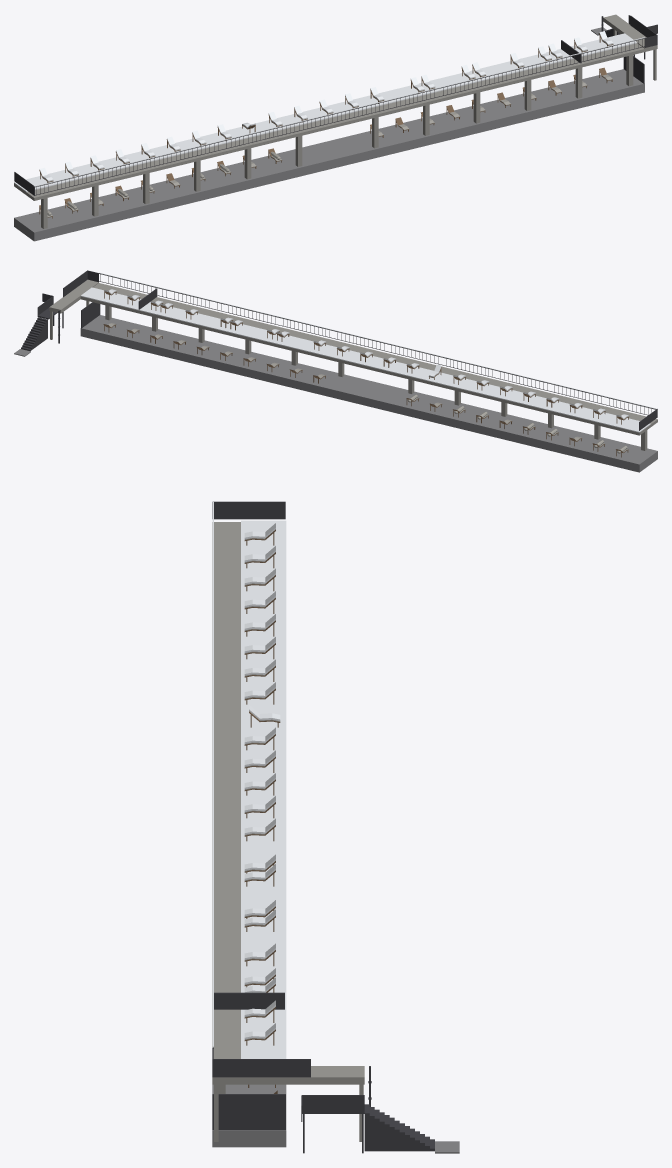
Rendered from EXT_Balconies.glb.
3 views of the same model, one above another, from view 1: azimuth 30°, elevation 25°; view 2: azimuth 150°, elevation 25°; view 3: azimuth 270°, elevation 25° (orthographic). The views are drawn at different scales.
Parts seen in each view (by area): view 1: EXT_Balconies_Terrace_Plinth_01, EXT_Balconies_Balcony_Slab_01, EXT_Balconies_Balcony_SlabReturn_01; view 2: EXT_Balconies_Terrace_Plinth_01, EXT_Balconies_Balcony_Slab_01, EXT_Balconies_Balcony_SlabReturn_01, EXT_Balconies_FireEscape_Flight_01, EXT_Balconies_Fence_TerraceEnd_01; view 3: EXT_Balconies_Balcony_Slab_01, EXT_Balconies_Fence_TerraceEnd_01, EXT_Balconies_FireEscape_Flight_01, EXT_Balconies_Terrace_Plinth_01, EXT_Balconies_Balcony_RailReturn_01, EXT_Balconies_Balcony_SlabReturn_01, EXT_Balconies_Balcony_RailEnd_01, EXT_Balconies_Partition_Vault_01, EXT_Balconies_FireEscape_Rail_01.
Part boxes in pixels (x1,y1,x2,y2): EXT_Balconies_Terrace_Plinth_01: [14, 69, 644, 241]; EXT_Balconies_Balcony_Slab_01: [14, 33, 644, 200]; EXT_Balconies_Balcony_SlabReturn_01: [603, 14, 657, 51]; EXT_Balconies_Terrace_Plinth_01: [80, 315, 657, 472]; EXT_Balconies_Balcony_Slab_01: [80, 283, 657, 435]; EXT_Balconies_Balcony_SlabReturn_01: [49, 279, 98, 313]; EXT_Balconies_FireEscape_Flight_01: [21, 317, 47, 351]; EXT_Balconies_Fence_TerraceEnd_01: [81, 302, 100, 328]; EXT_Balconies_Balcony_Slab_01: [212, 520, 286, 1058]; EXT_Balconies_Fence_TerraceEnd_01: [212, 1094, 285, 1130]; EXT_Balconies_FireEscape_Flight_01: [364, 1104, 434, 1151]; EXT_Balconies_Terrace_Plinth_01: [212, 1084, 286, 1147]; EXT_Balconies_Balcony_RailReturn_01: [212, 1059, 310, 1077]; EXT_Balconies_Balcony_SlabReturn_01: [212, 1066, 364, 1084]; EXT_Balconies_Balcony_RailEnd_01: [212, 501, 285, 519]; EXT_Balconies_Partition_Vault_01: [214, 992, 284, 1009]; EXT_Balconies_FireEscape_Rail_01: [301, 1095, 364, 1121].
Size of the model in its own units: 76.4 by 6.18 by 13.8.
